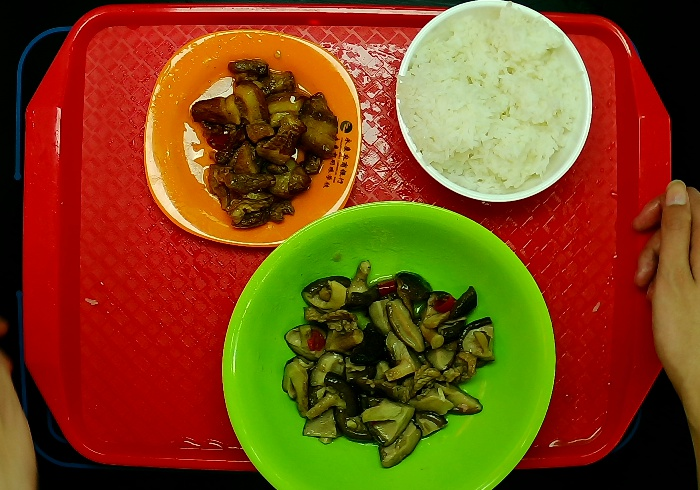YKMZ-Fan_Wan: (392, 1, 596, 202)
YKMZ-Ju_Se_Fang_Die: (142, 34, 361, 246)
YKMZ-Lv_Se_Tang_Wan: (213, 195, 555, 490)
